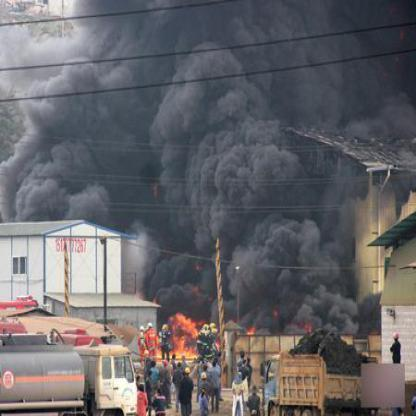fire: (172, 310, 196, 332), (173, 336, 196, 358)
